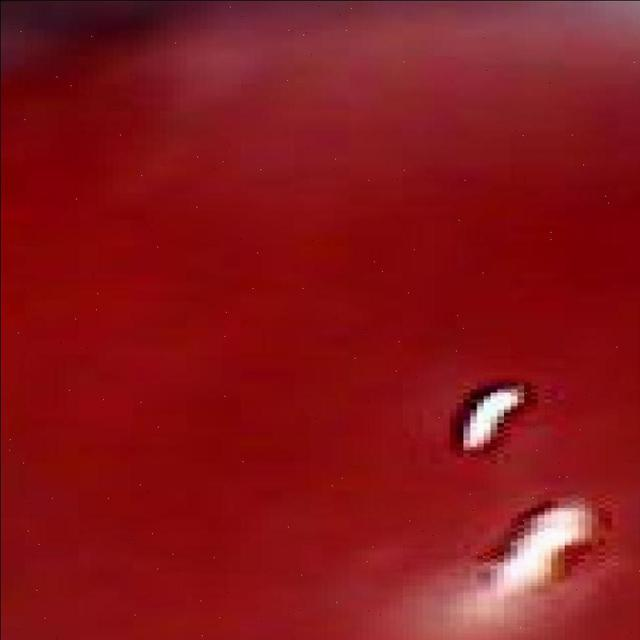Healthy Fruit: (0, 0, 425, 426)
